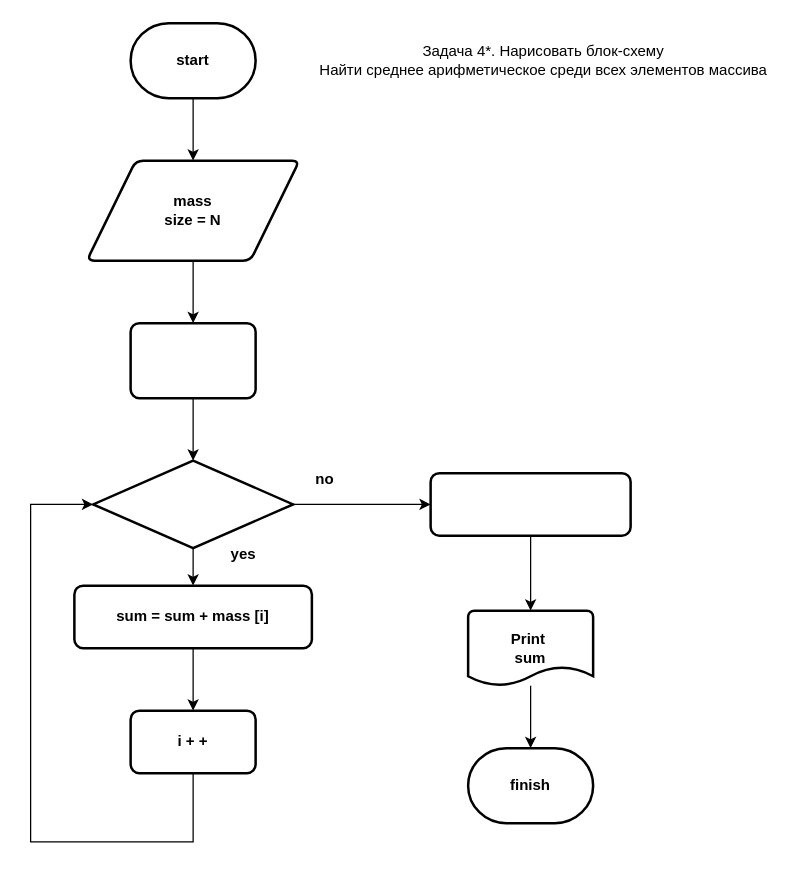
The diagram is 803 pixels wide and 874 high, and some of its shapes have lost their labels. The shapes that lost their labels are listed below. From the top down, each one's box as (x1, y1, x2, y2) in pixels, then its label:
(129, 321, 256, 399): i = 0 sun = 0
(91, 459, 294, 549): i < N
(429, 471, 631, 536): sum = sum / N
